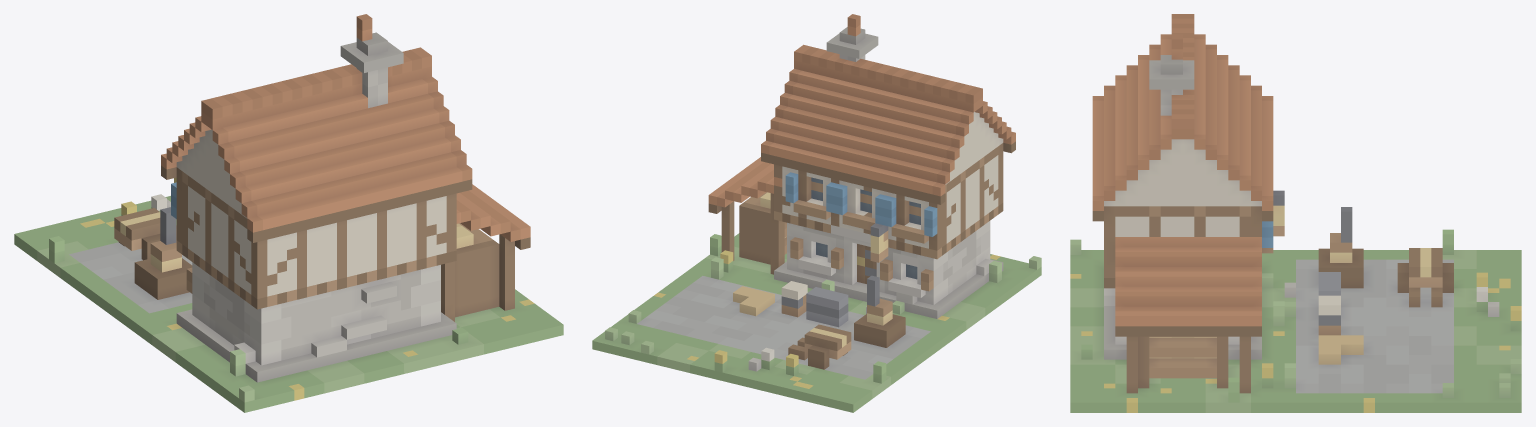
Rendered from cheese_dairy.glb.
3 views of the same model, side by side, from view 1: azimuth 30°, elevation 25°; view 2: azimuth 150°, elevation 25°; view 3: azimuth 270°, elevation 25° (orthographic). The views are drawn at different scales.
Visible parts, largest first — view 1: cheese_dairy; view 2: cheese_dairy; view 3: cheese_dairy.
Part boxes in pixels (x1,y1,x2,y2): cheese_dairy: [14, 14, 563, 412]; cheese_dairy: [592, 14, 1041, 412]; cheese_dairy: [1070, 14, 1521, 412].
Size of the model in its own units: 4 by 3.75 by 5.
